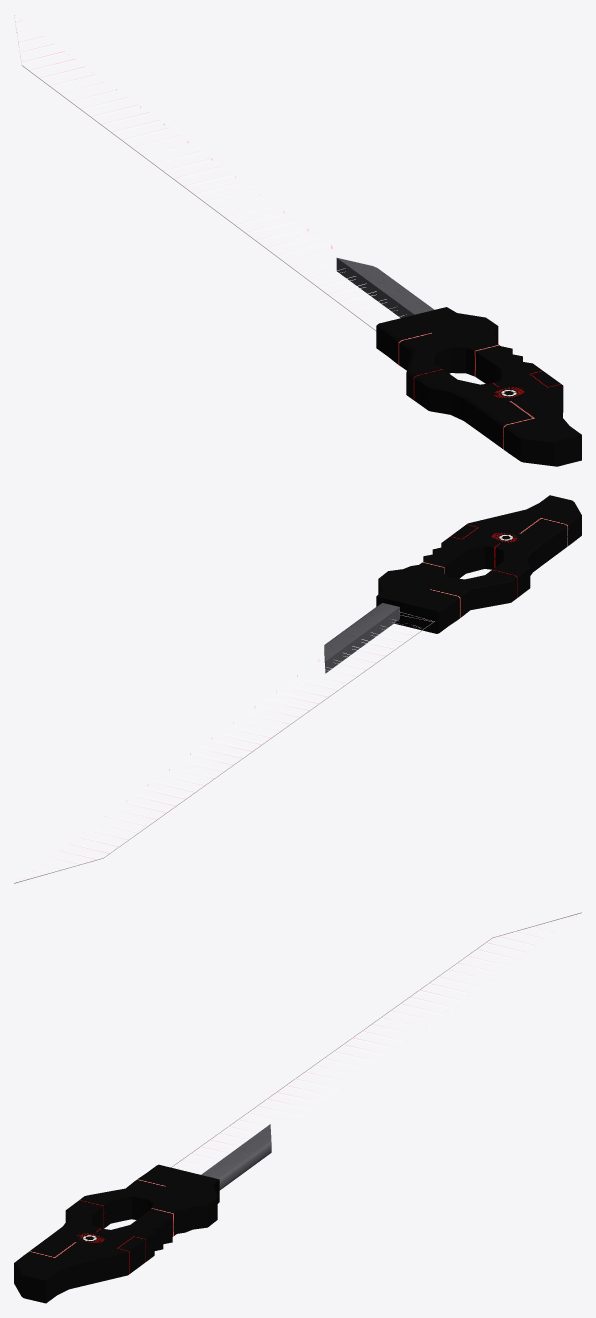
The model's file is Blade.fbx.
3 renders of one model, top to bottom at view 1: azimuth 30°, elevation 25°; view 2: azimuth 150°, elevation 25°; view 3: azimuth 330°, elevation 25°, orthographic. The views are drawn at different scales.
Visible parts, largest first — view 1: Blade; view 2: Blade; view 3: Blade.
Boxes of the visible parts, box(x1,y1,x2,y2) form: Blade: box(14, 15, 581, 466); Blade: box(14, 495, 581, 883); Blade: box(14, 912, 581, 1303).
Size of the model in its own units: 9.18 by 1.96 by 80.82.
1 material, 1 textured.
